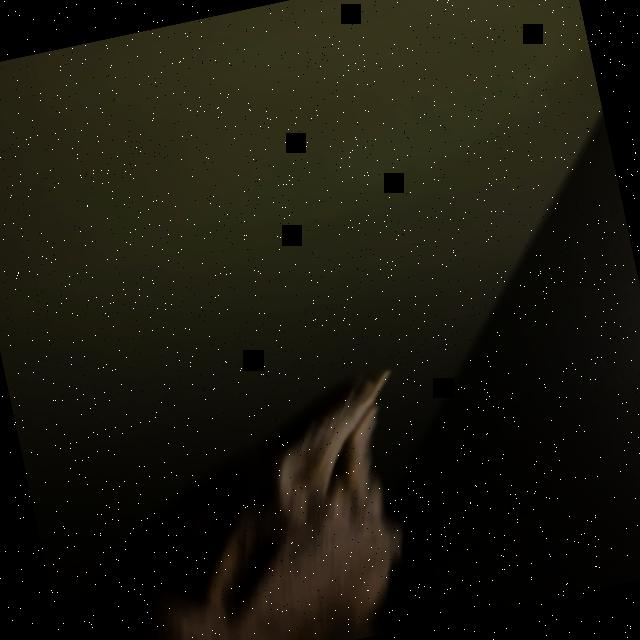Paper: (18, 365, 435, 640)
